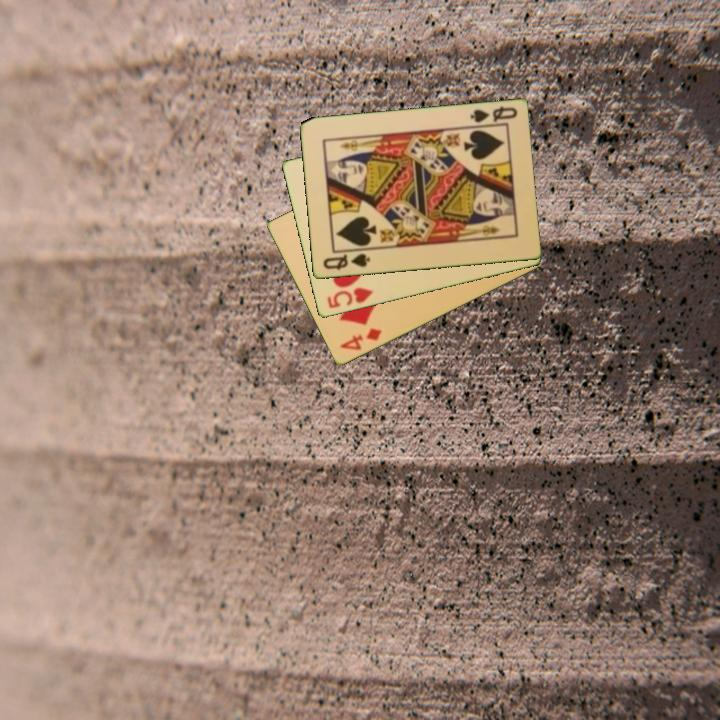4d: (336, 324, 384, 353)
5h: (323, 284, 376, 312)
Qs: (466, 103, 520, 129), (319, 250, 373, 273)
